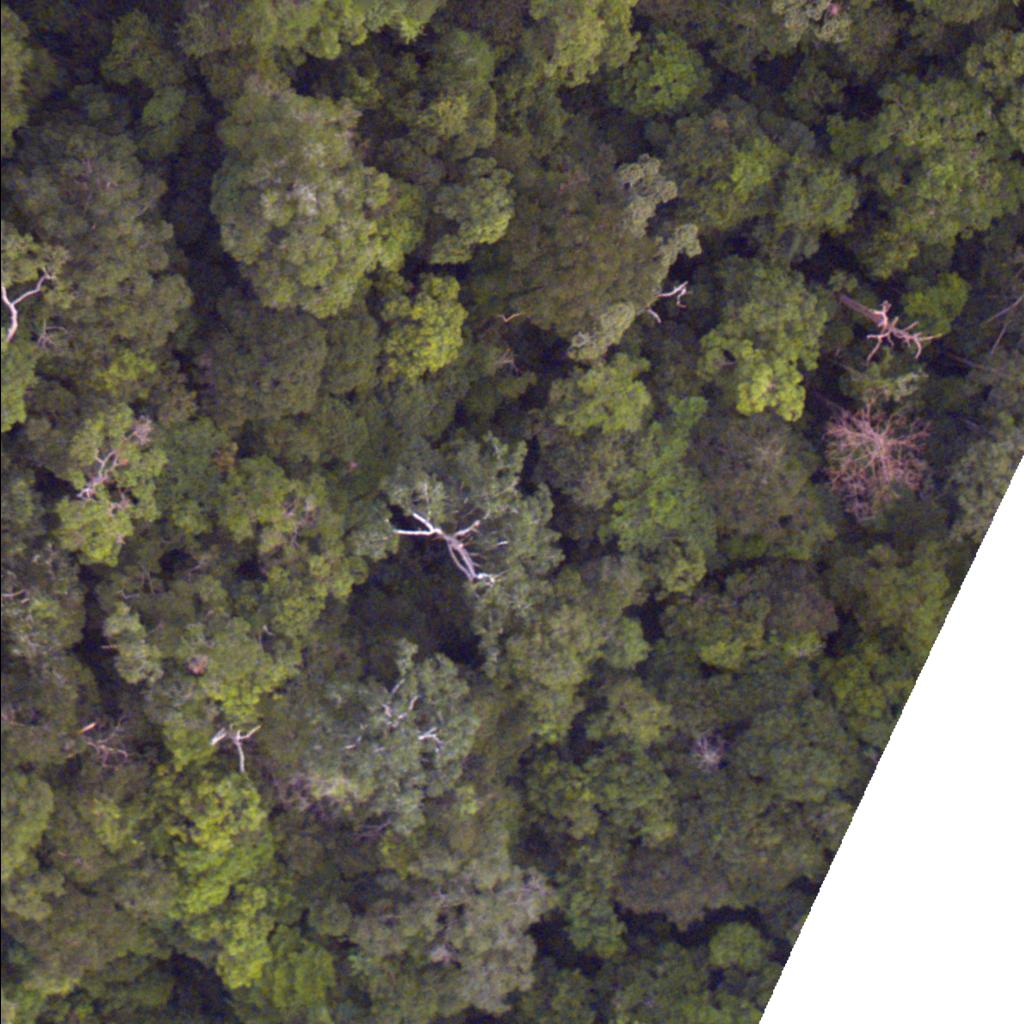crown: (199, 73, 429, 332), (16, 117, 201, 371), (825, 74, 1023, 283), (486, 183, 669, 336), (683, 255, 841, 431), (192, 298, 325, 431), (682, 415, 807, 535), (510, 0, 630, 98), (610, 36, 713, 119), (966, 42, 1023, 177), (843, 0, 887, 15)
